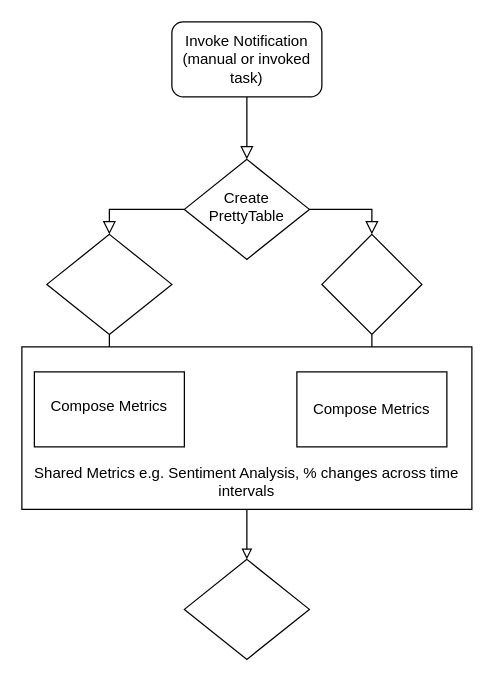
Image size: 494x681. Some labels were removed from this diagram. The centre of each missing label's shape, as x and y in pixels:
Crypto API: pixel 109 283
Generate notification: pixel 246 608
Stock API: pixel 371 283
